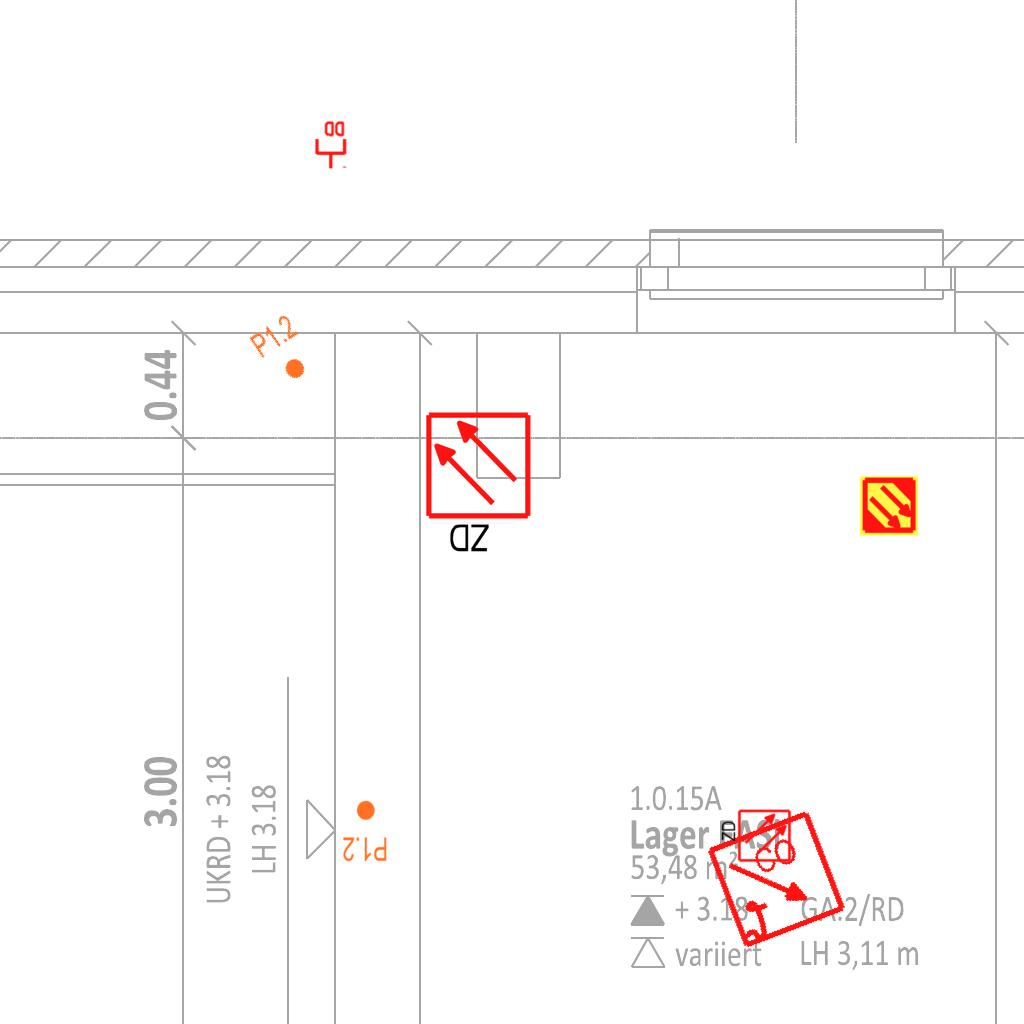ASR_Ansaugrauchmelder: (858, 475, 920, 537)
Datenanschluss_zweifach: (313, 119, 347, 170)
Downlight_LED_Einbauleuchten_Flur: (247, 311, 321, 391), (342, 799, 388, 863)
ROA_Rauchmelder_optisch_mit_Signalgeber_(Sockelsirene): (704, 807, 851, 954)
ZD_Melder_in_Zwischendecke_mit_Revisionsoeffnung_mind_40_x_40_cm: (423, 410, 537, 559), (718, 808, 792, 865)
